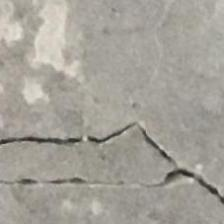Crack: (7, 110, 224, 205)
